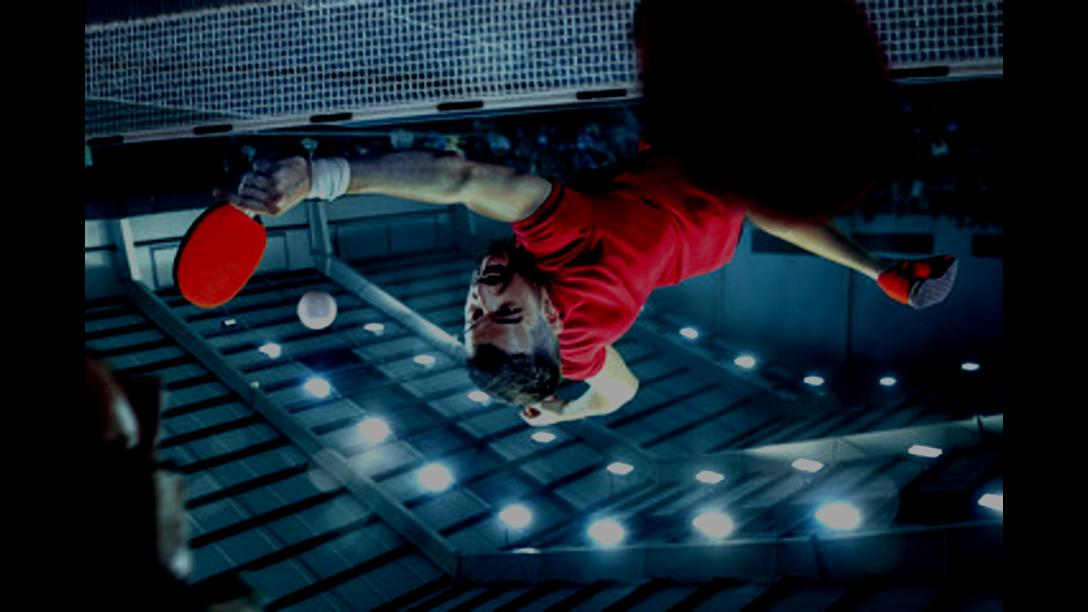Table-Tennis-Ball: (299, 293, 334, 329)
